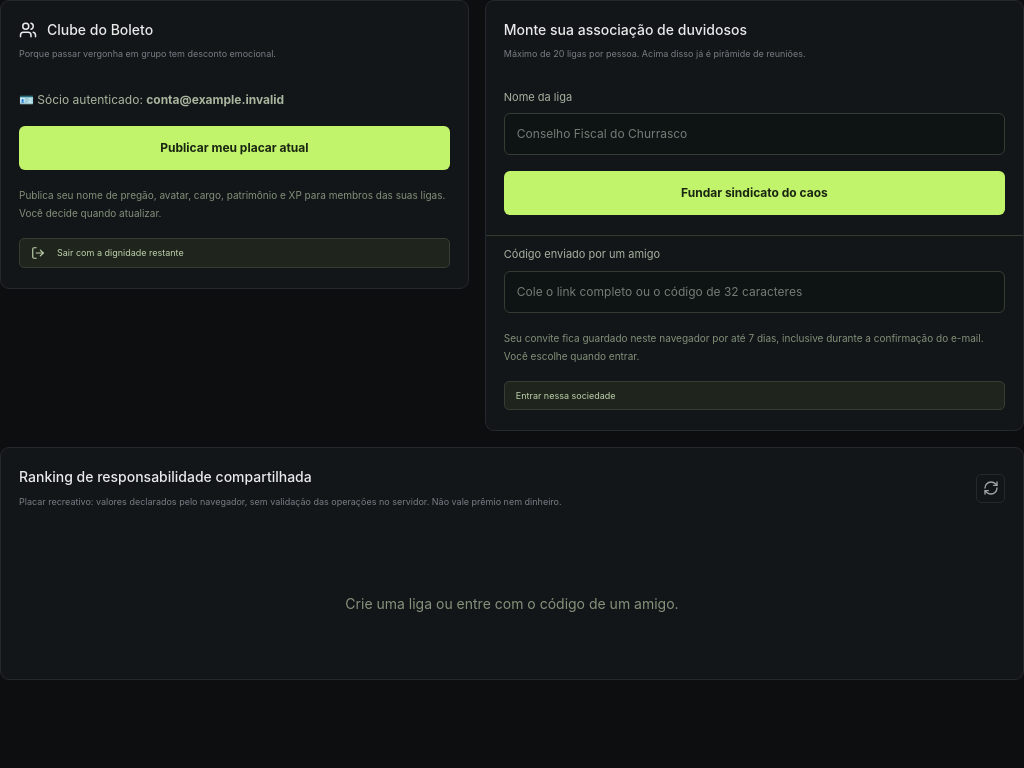
Test case: login e convite sem avisos antigos › convite inválido não envia requisição nem publica placar
The width and height of the screenshot is (1024, 768).
Type "isto-nao-e-um-convite" into the field labelled "Código enviado por um amigo".
click(754, 292); type("isto-nao-e-um-convite")  # box [504,270,1005,312]
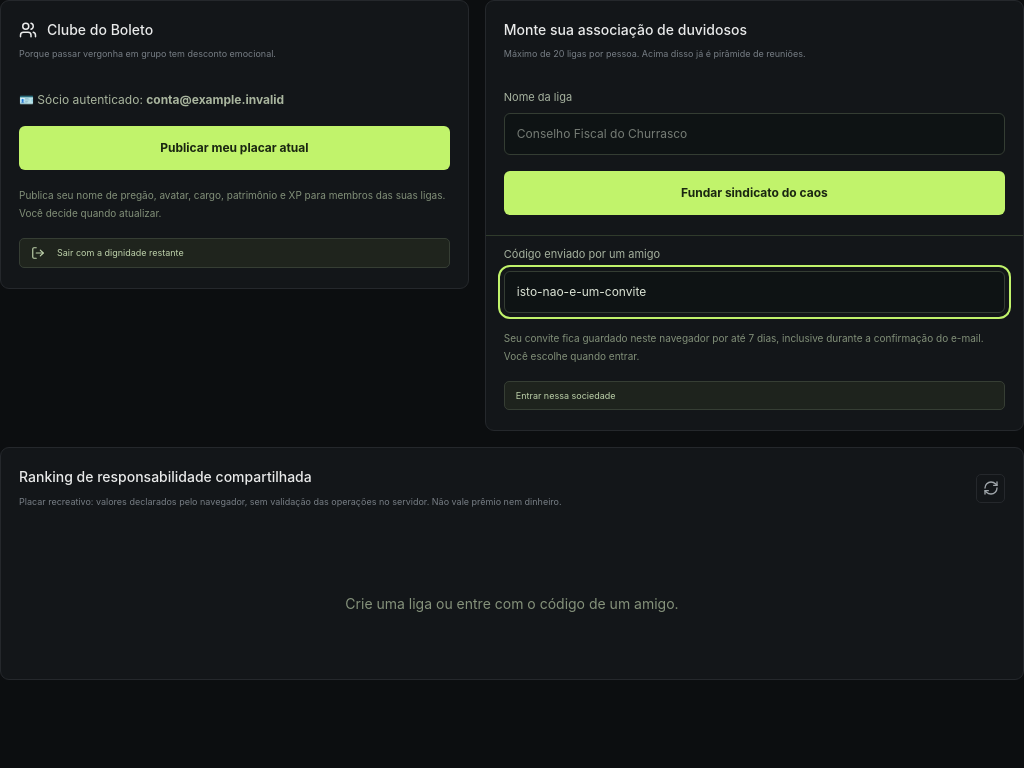
Click the button "Entrar nessa sociedade".
click(566, 395)  # box [504,380,1005,410]
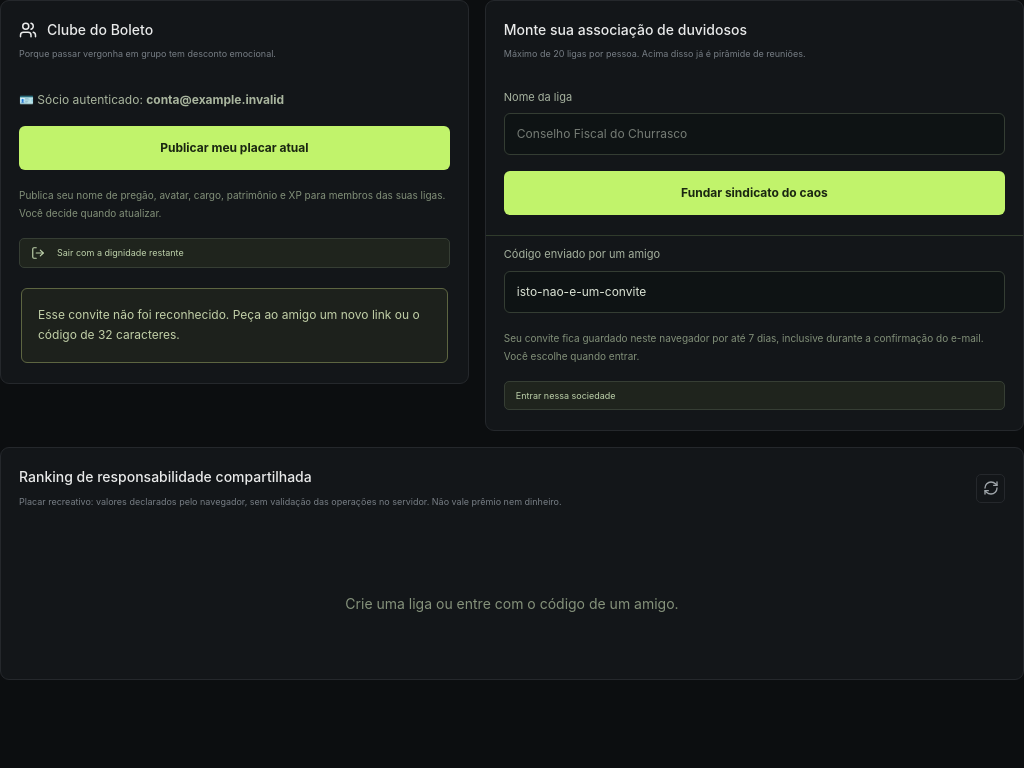
Now the text "Esse convite não foi reconhecido" is shown, box [38,307,420,342]
